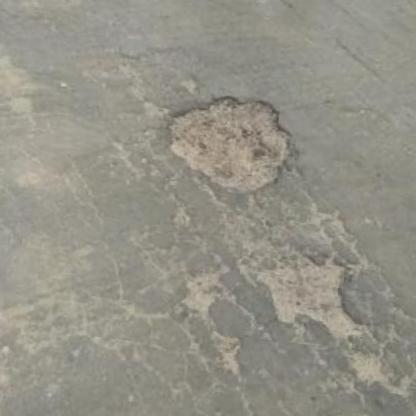pothole: (160, 85, 302, 199), (251, 245, 380, 340)
